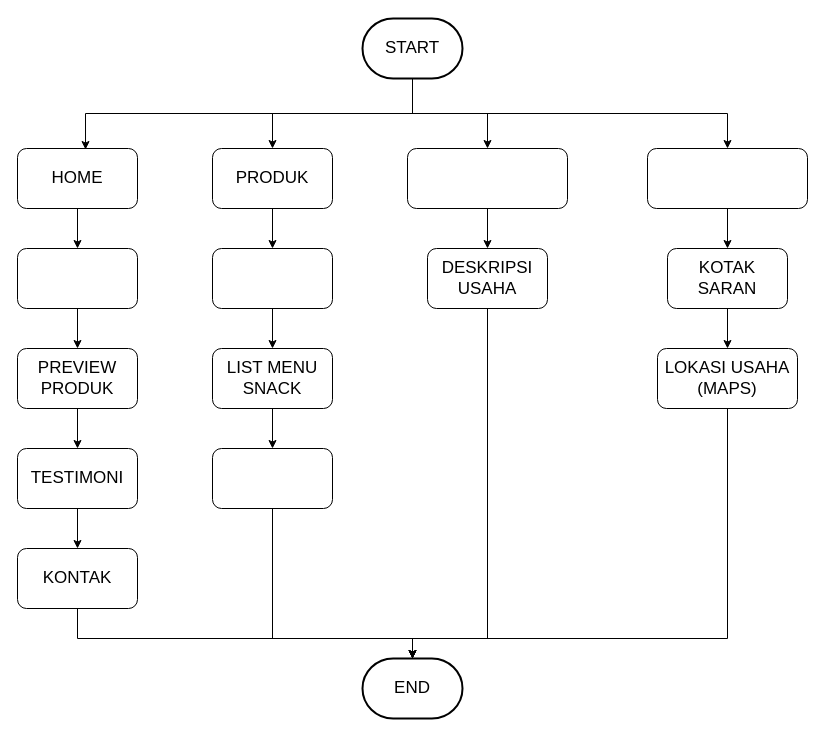
Image size: 825x736. Some labels were removed from this diagram. The centre of each missing label's shape, as x and y in pixels:
DESKRIPSI SINGKAT: (77,278)
KONTAK KAMI: (727,178)
LIST MENU MAKANAN: (272,278)
LIST MENU MINUMAN: (272,478)
TENTANG KAMI: (487,178)
